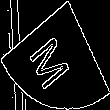M_NE: (30, 22, 80, 88)
